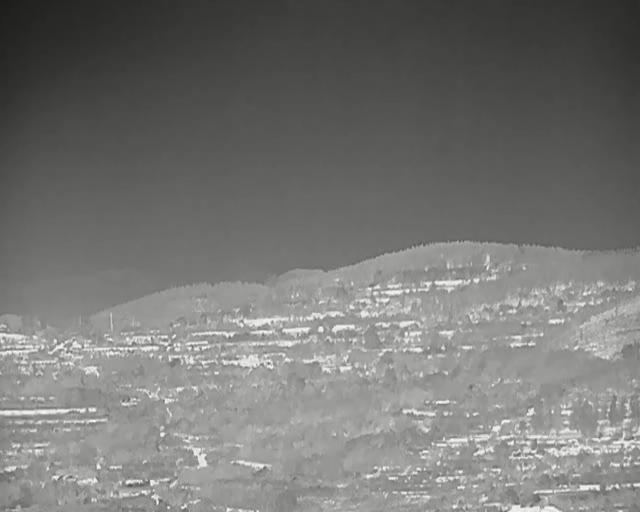uav: (188, 499, 203, 505)
